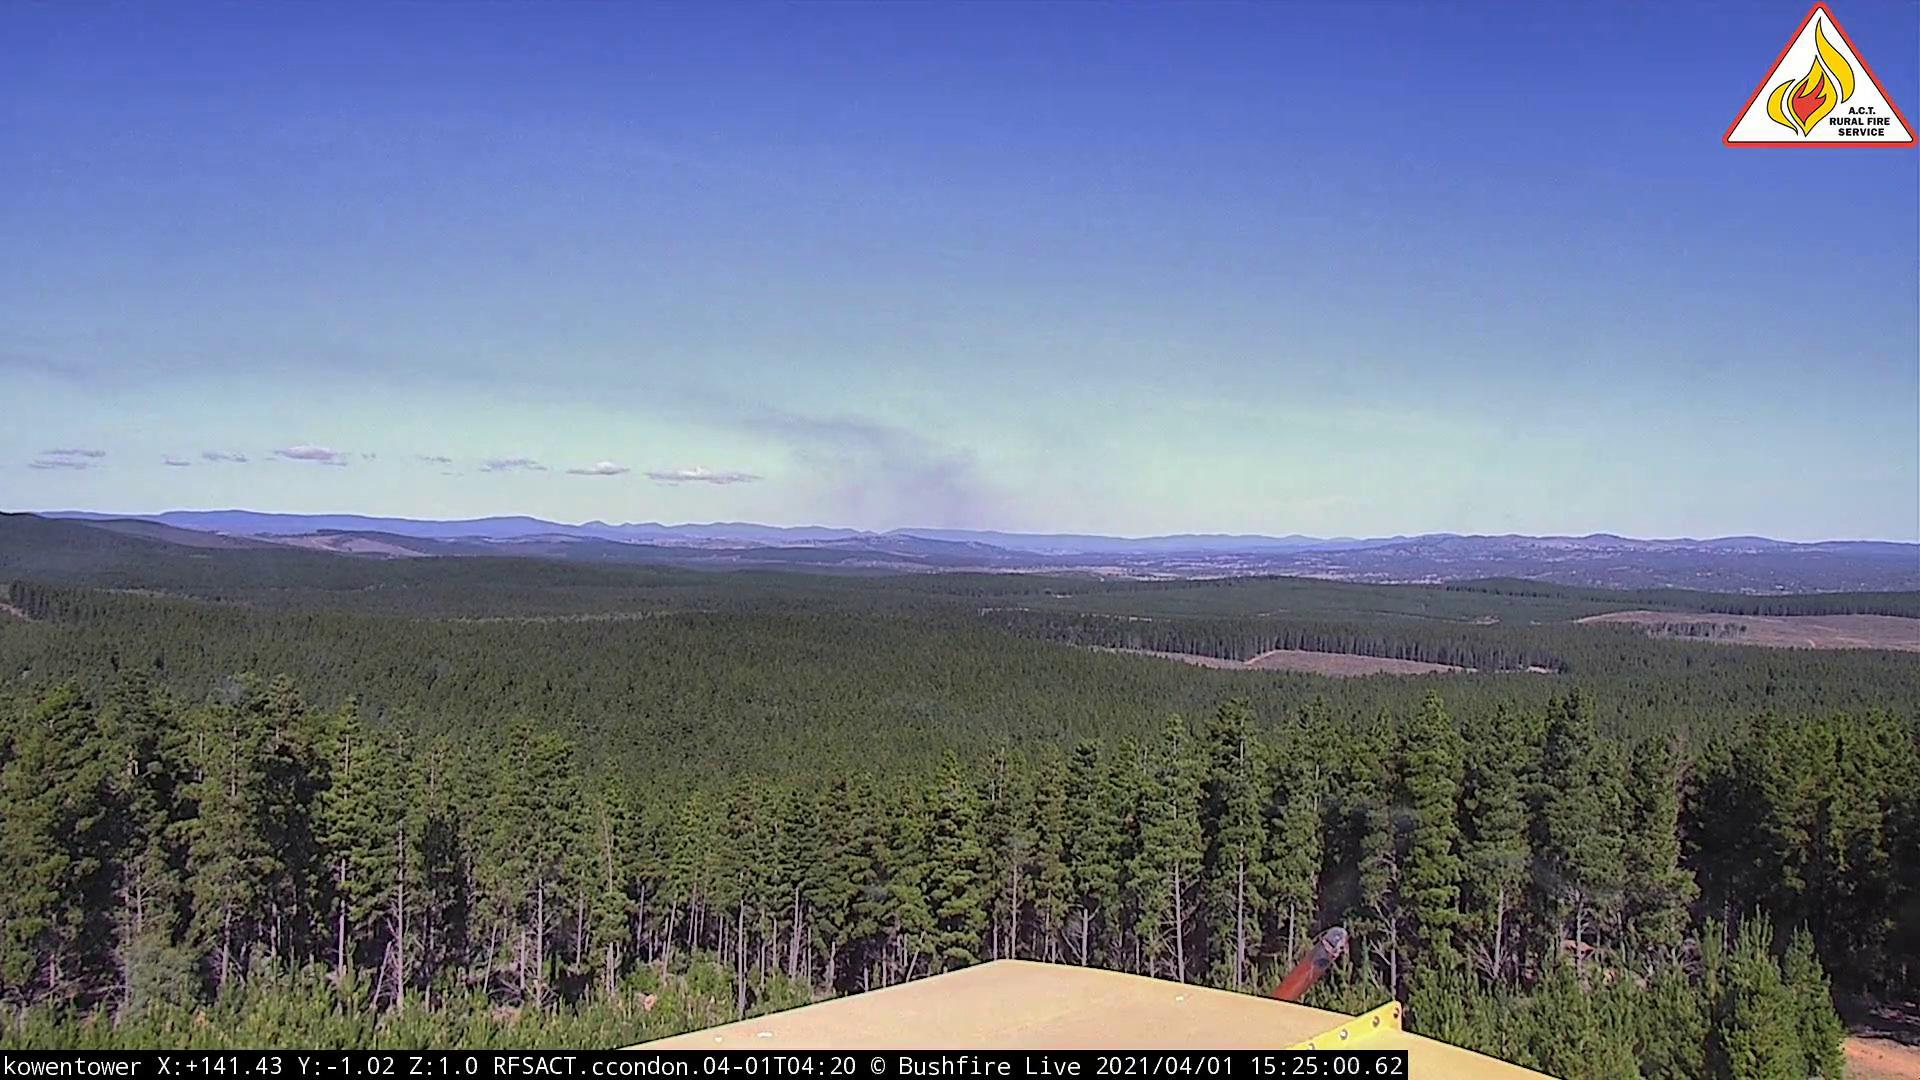Smoke: (746, 384, 1131, 553)
